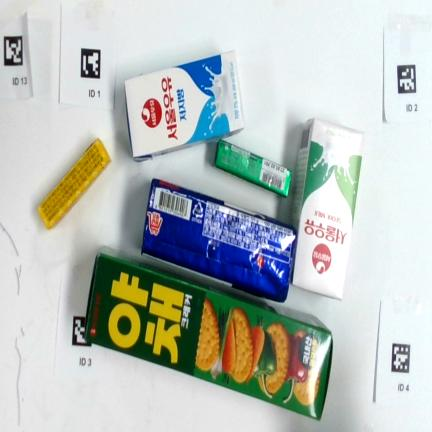cracker_ace: (141, 177, 295, 303)
cracker_vege: (85, 243, 332, 423)
gum_green: (215, 140, 291, 197)
gum_yellow: (38, 138, 110, 229)
milk_blue: (125, 51, 244, 160)
milk_green: (290, 118, 364, 299)
